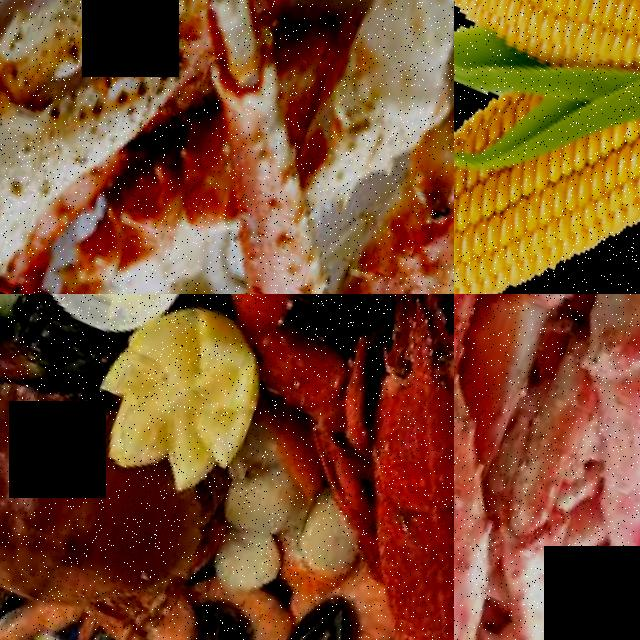corn: (454, 53, 640, 294), (454, 0, 640, 181)
crab: (0, 0, 454, 294), (454, 294, 640, 640), (454, 294, 515, 640)
